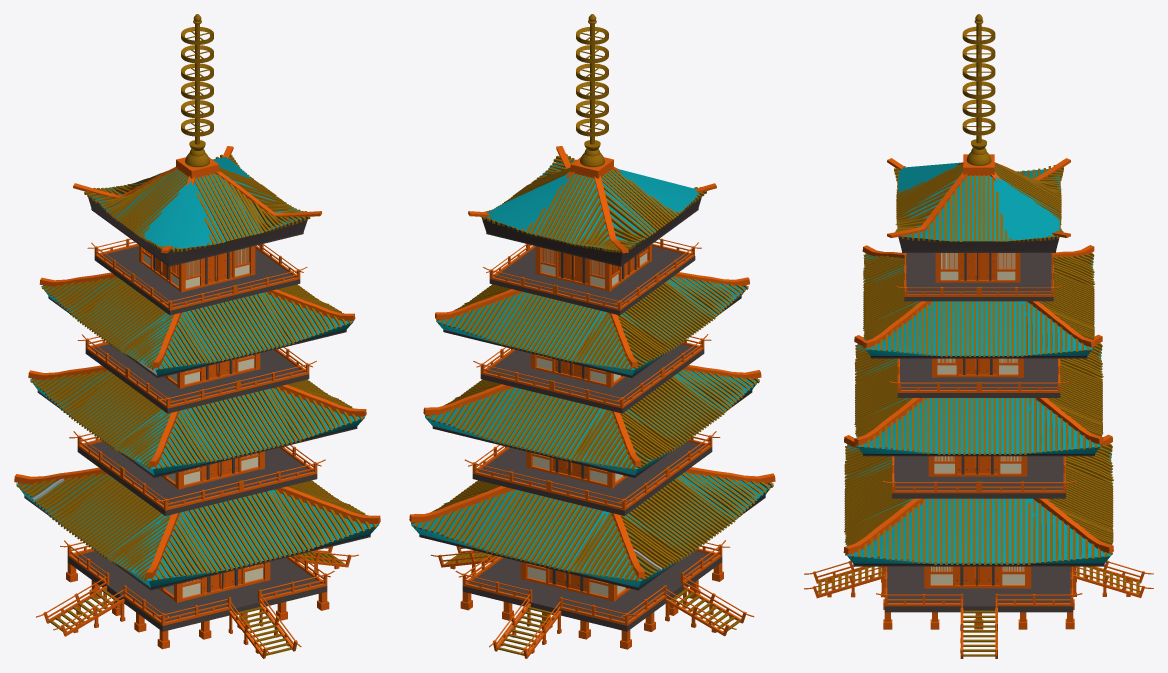
Rendered from Bugaj.fbx.
3 views of the same model, side by side, from view 1: azimuth 30°, elevation 25°; view 2: azimuth 150°, elevation 25°; view 3: azimuth 270°, elevation 25° (orthographic).
Parts seen in each view (by area): view 1: pasted__roof (×3), pasted__base (×4), pasted__top_floor_roof, pasted__pCube20 (×3), pasted__pCube19 (×2), pasted__room, pasted__door, pasted__pCube18, pasted__pCube70, pasted__pCube67; view 2: pasted__roof (×3), pasted__base (×4), pasted__top_floor_roof, pasted__pCube21 (×3), pasted__room, pasted__pCube18, pasted__pCube71, pasted__pCube19, pasted__door; view 3: pasted__roof (×3), pasted__base (×4), pasted__top_floor_roof, pasted__room (×4), pasted__door (×4), pasted__pCube20 (×3), pasted__pCube21 (×3), pasted__pCube70, pasted__lightning_rod.
Boxes of the visible parts, x1,y1,x2,y2 form: pasted__roof (×3): (16,278,378,590); pasted__base (×4): (67,246,327,631); pasted__top_floor_roof: (88,157,307,266); pasted__pCube20 (×3): (267,289,380,524); pasted__pCube19 (×2): (14,365,107,484); pasted__room: (143,247,249,288); pasted__door: (202,251,232,284); pasted__pCube18: (146,512,179,578); pasted__pCube70: (215,171,321,217); pasted__pCube67: (176,157,219,178); pasted__roof (×3): (411,277,773,590); pasted__base (×4): (462,246,722,631); pasted__top_floor_roof: (481,159,701,266); pasted__pCube21 (×3): (409,289,523,522); pasted__room: (541,248,647,287); pasted__pCube18: (684,467,775,483); pasted__pCube71: (594,176,628,253); pasted__pCube19: (611,513,644,578); pasted__door: (558,251,587,283); pasted__roof (×3): (846,253,1111,566); pasted__base (×4): (884,253,1073,612); pasted__top_floor_roof: (897,162,1060,252); pasted__room (×4): (930,253,1024,584); pasted__door (×4): (955,253,999,585); pasted__pCube20 (×3): (843,301,930,554); pasted__pCube21 (×3): (1027,301,1113,553); pasted__pCube70: (887,172,967,237); pasted__lightning_rod: (976,24,981,143).
Bounding box in the file's own units: 62.88 × 114 × 62.88.
